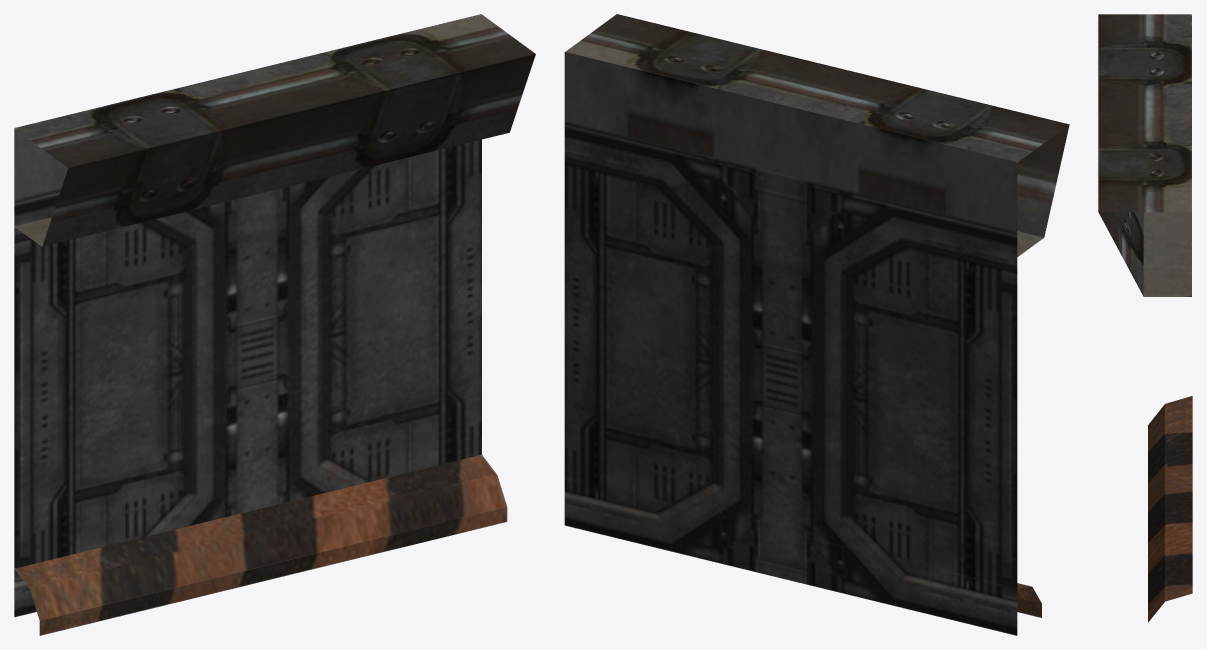
File: CubeBaseFrontBackground2.fbx
The picture shows the model from 3 angles, left to right: view 1: azimuth 30°, elevation 25°; view 2: azimuth 150°, elevation 25°; view 3: azimuth 270°, elevation 25°; orthographic projection. The views are drawn at different scales.
Parts seen in each view (by area): view 1: polySurface14; view 2: polySurface14; view 3: polySurface14.
Boxes of the visible parts, <box> form: polySurface14: <box>14,14,535,635</box>; polySurface14: <box>564,14,1069,635</box>; polySurface14: <box>1098,14,1192,622</box>.
Size of the model in its own units: 1 by 1 by 0.2014.
1 material, 1 textured.
